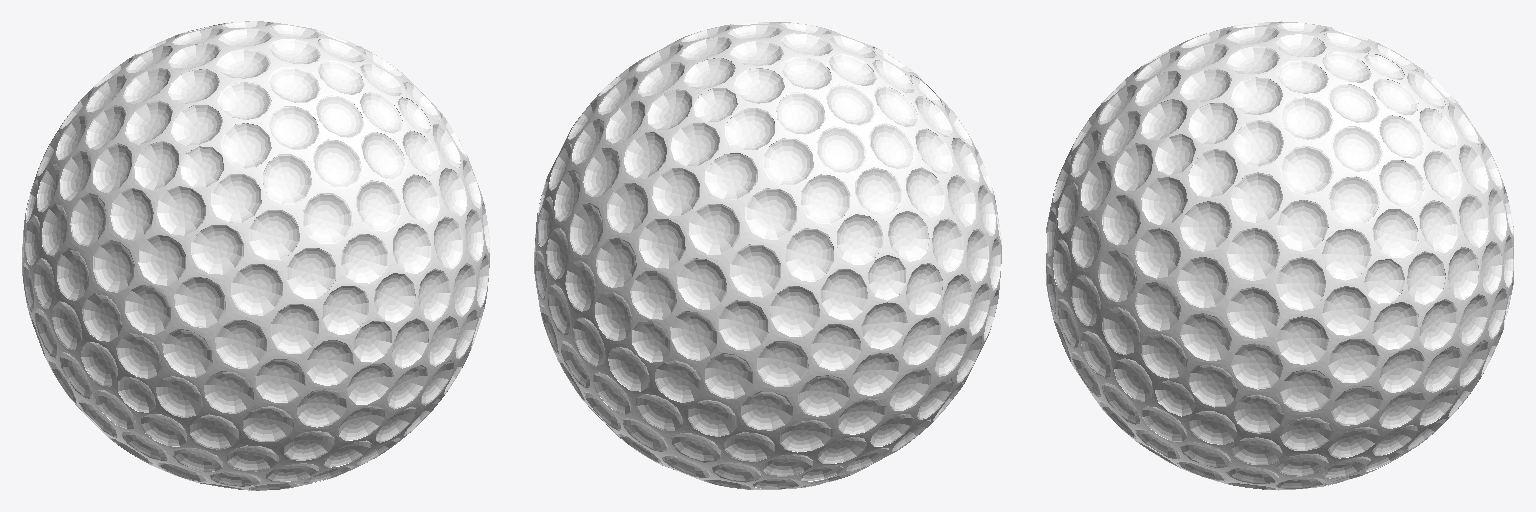
The model's file is ball.obj.
3 renders of one model, left to right at view 1: azimuth 30°, elevation 25°; view 2: azimuth 150°, elevation 25°; view 3: azimuth 270°, elevation 25°, orthographic.
Visible parts, largest first — view 1: ball; view 2: ball; view 3: ball.
Boxes of the visible parts, x1,y1,x2,y2 form: ball: [22, 21, 489, 490]; ball: [534, 22, 1001, 489]; ball: [1046, 21, 1513, 490].
Bounding box in the file's own units: 1 × 1 × 1.